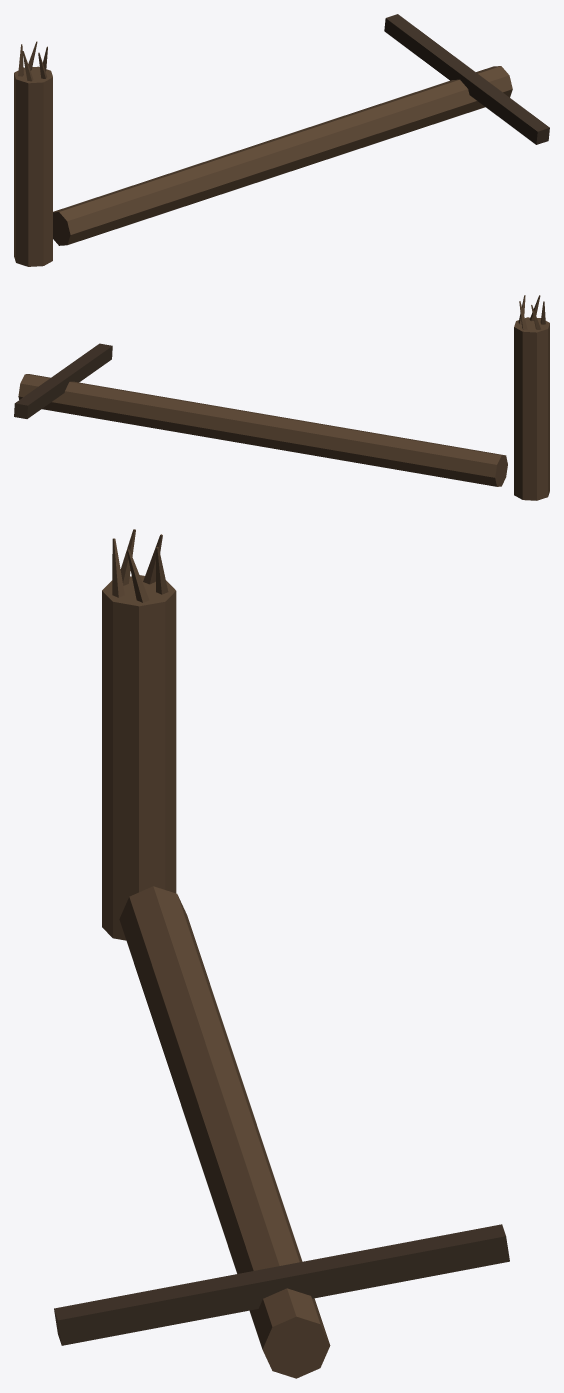
The model's file is Pole_Snapped.fbx.
3 views of the same model, one above another, from view 1: azimuth 30°, elevation 25°; view 2: azimuth 150°, elevation 25°; view 3: azimuth 270°, elevation 25° (orthographic). The views are drawn at different scales.
Visible parts, largest first — view 1: Pole_Snapped; view 2: Pole_Snapped; view 3: Pole_Snapped.
Boxes of the visible parts, bbox=[...] form: Pole_Snapped: bbox=[14, 14, 549, 266]; Pole_Snapped: bbox=[14, 295, 549, 500]; Pole_Snapped: bbox=[54, 529, 509, 1378].
Bounding box in the file's own units: 3.93 × 1.5 × 1.6.
